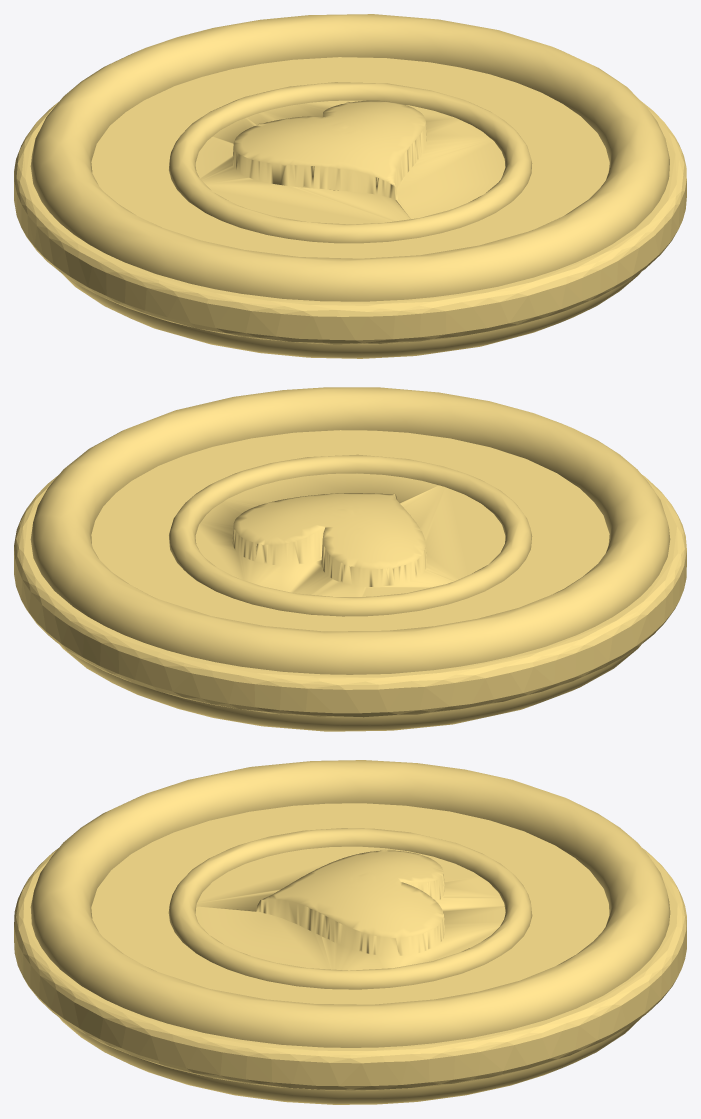
Rendered from coin_low.glb.
3 renders of one model, top to bottom at view 1: azimuth 30°, elevation 25°; view 2: azimuth 150°, elevation 25°; view 3: azimuth 270°, elevation 25°, orthographic.
Parts seen in each view (by area): view 1: GoldCoin; view 2: GoldCoin; view 3: GoldCoin.
Boxes of the visible parts, x1,y1,x2,y2 form: GoldCoin: (14, 14, 686, 358); GoldCoin: (14, 387, 686, 731); GoldCoin: (14, 760, 686, 1104).
Bounding box in the file's own units: 2 × 0.354 × 2.
